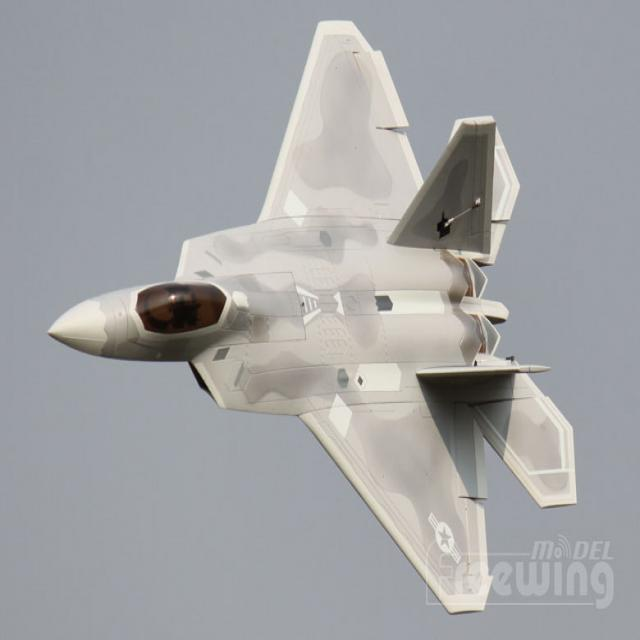F22: (47, 16, 584, 617)
